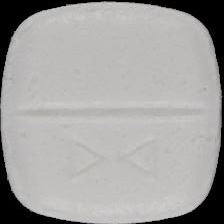55154-6159: (0, 0, 224, 224)
